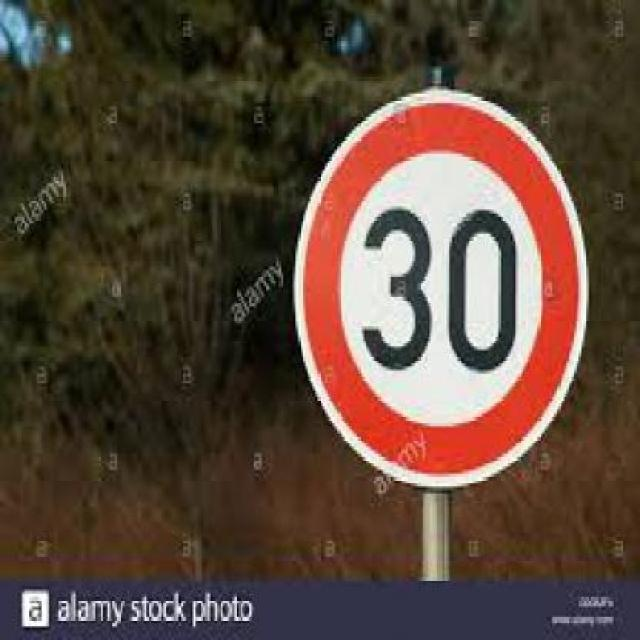forb_speed_over_30: (300, 93, 586, 481)
